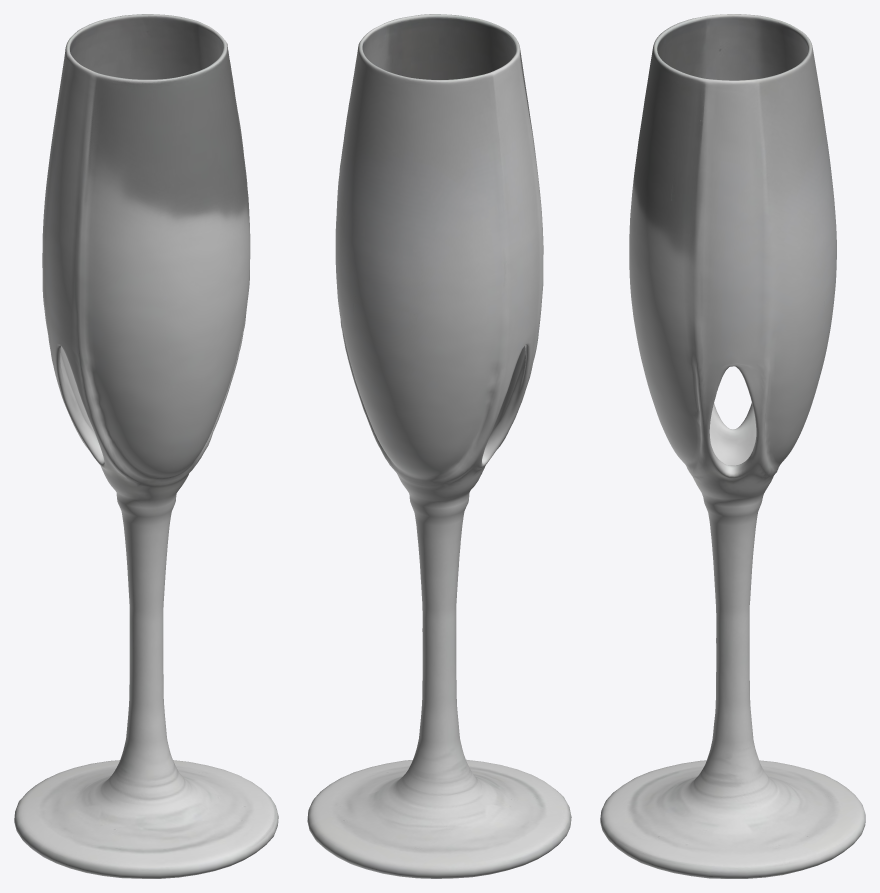
File: model_champagne_flute.glb
3 views of the same model, side by side, from view 1: azimuth 30°, elevation 25°; view 2: azimuth 150°, elevation 25°; view 3: azimuth 270°, elevation 25° (orthographic).
Parts seen in each view (by area): view 1: tripo_node_80aca69b-dc74-4b8b-a893-1c13003ed57b; view 2: tripo_node_80aca69b-dc74-4b8b-a893-1c13003ed57b; view 3: tripo_node_80aca69b-dc74-4b8b-a893-1c13003ed57b.
Part boxes in pixels (x1,y1,x2,y2): tripo_node_80aca69b-dc74-4b8b-a893-1c13003ed57b: [14, 14, 278, 878]; tripo_node_80aca69b-dc74-4b8b-a893-1c13003ed57b: [307, 14, 571, 878]; tripo_node_80aca69b-dc74-4b8b-a893-1c13003ed57b: [600, 14, 865, 878].
Size of the model in its own units: 0.3066 by 0.9994 by 0.3088.
1 material, 1 textured.
